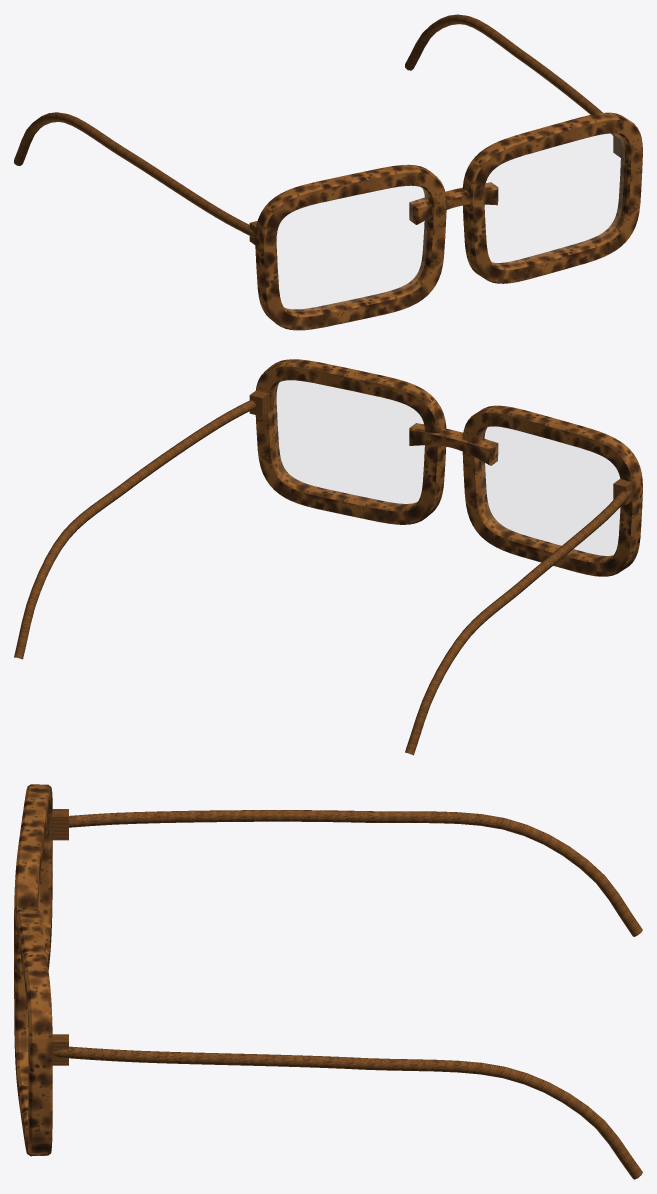
Rendered from NY-W09_Uma_Havana_tortoise.glb.
3 views of the same model, one above another, from view 1: azimuth 30°, elevation 25°; view 2: azimuth 150°, elevation 25°; view 3: azimuth 270°, elevation 25° (orthographic). The views are drawn at different scales.
Parts seen in each view (by area): view 1: Uma_Havana_tortoise_Acetate, Uma_Havana_tortoise_Lenses; view 2: Uma_Havana_tortoise_Acetate, Uma_Havana_tortoise_Lenses; view 3: Uma_Havana_tortoise_Acetate.
Boxes of the visible parts, bbox=[...] form: Uma_Havana_tortoise_Acetate: bbox=[14, 14, 642, 330]; Uma_Havana_tortoise_Lenses: bbox=[277, 134, 623, 311]; Uma_Havana_tortoise_Acetate: bbox=[14, 359, 642, 755]; Uma_Havana_tortoise_Lenses: bbox=[274, 381, 619, 557]; Uma_Havana_tortoise_Acetate: bbox=[14, 784, 642, 1179].
Size of the model in its own units: 0.1415 by 0.0465 by 0.1481.
Materials: 2 (1 with a texture image).
